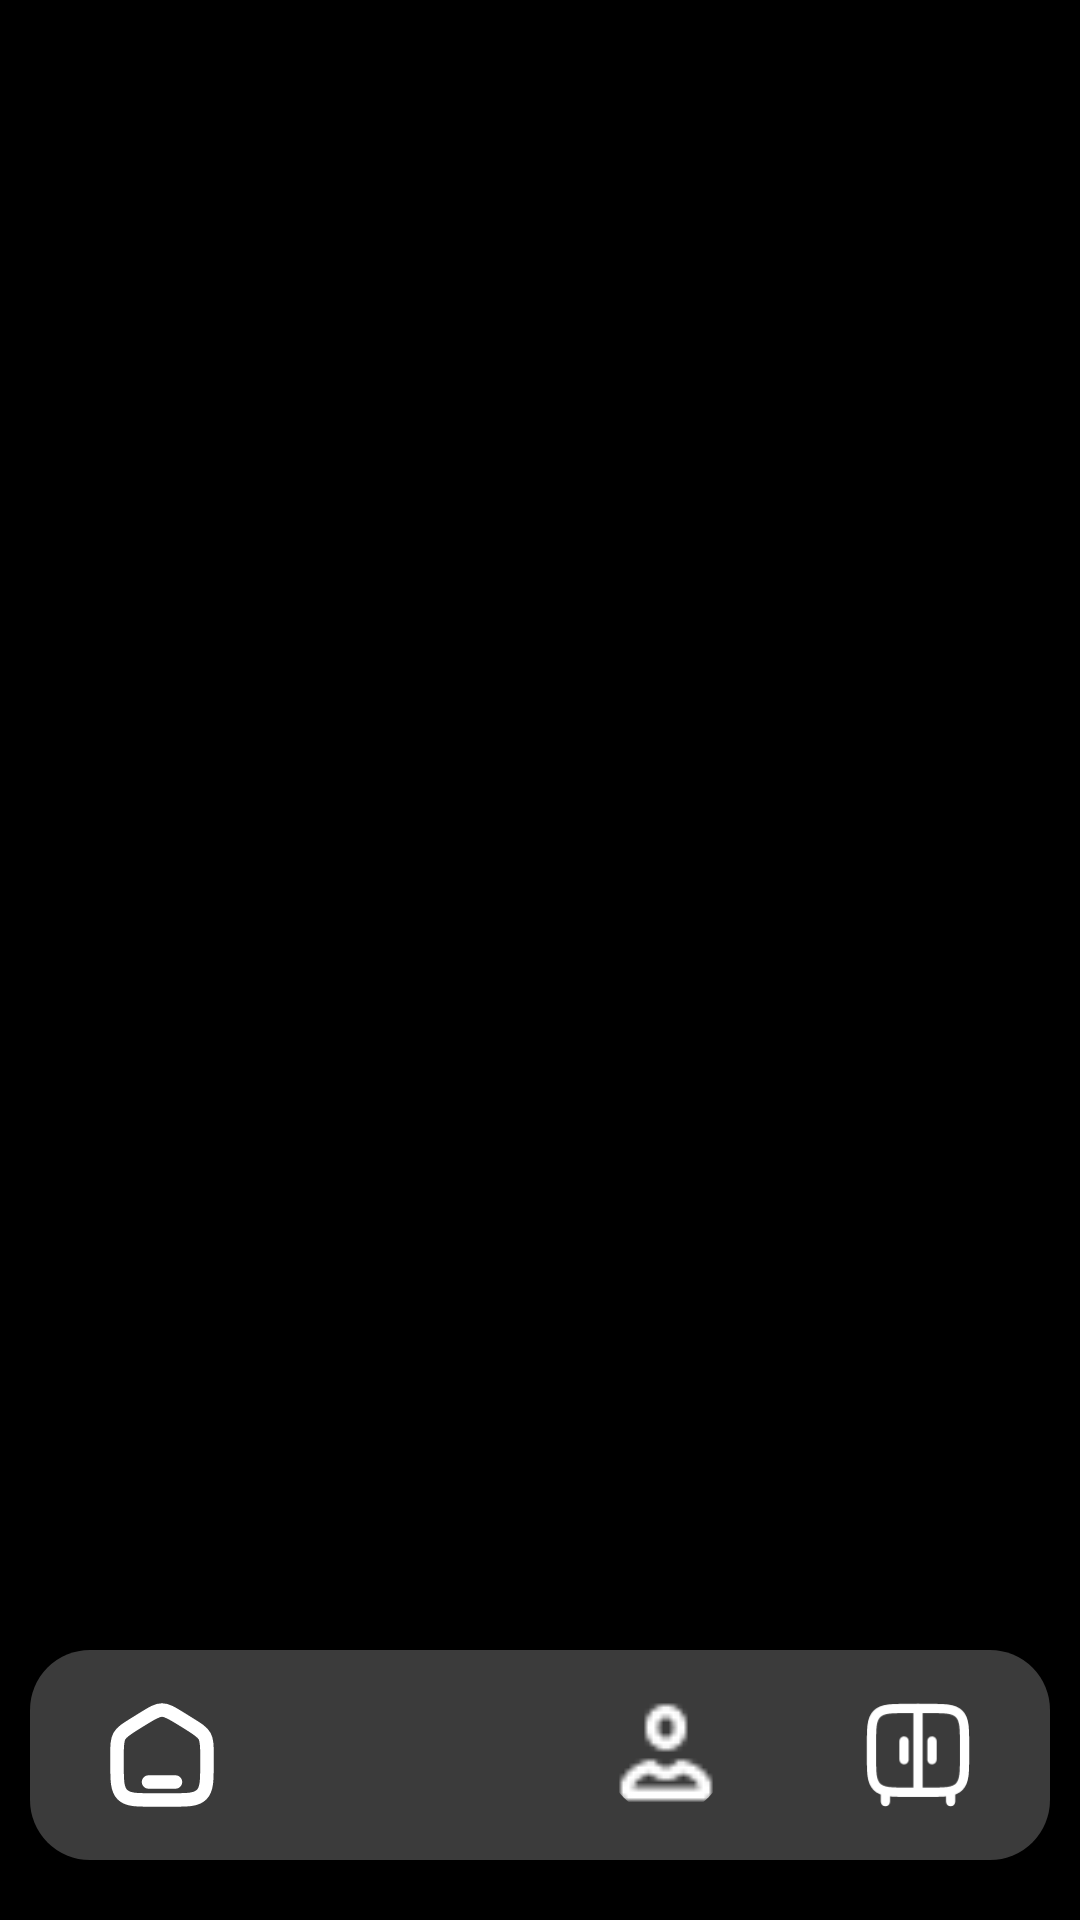

Point at icon controls on the screen. Image size 1080×1920, points as [x,y].
account: [666,1752]
closet: [918,1755]
home: [162,1755]
